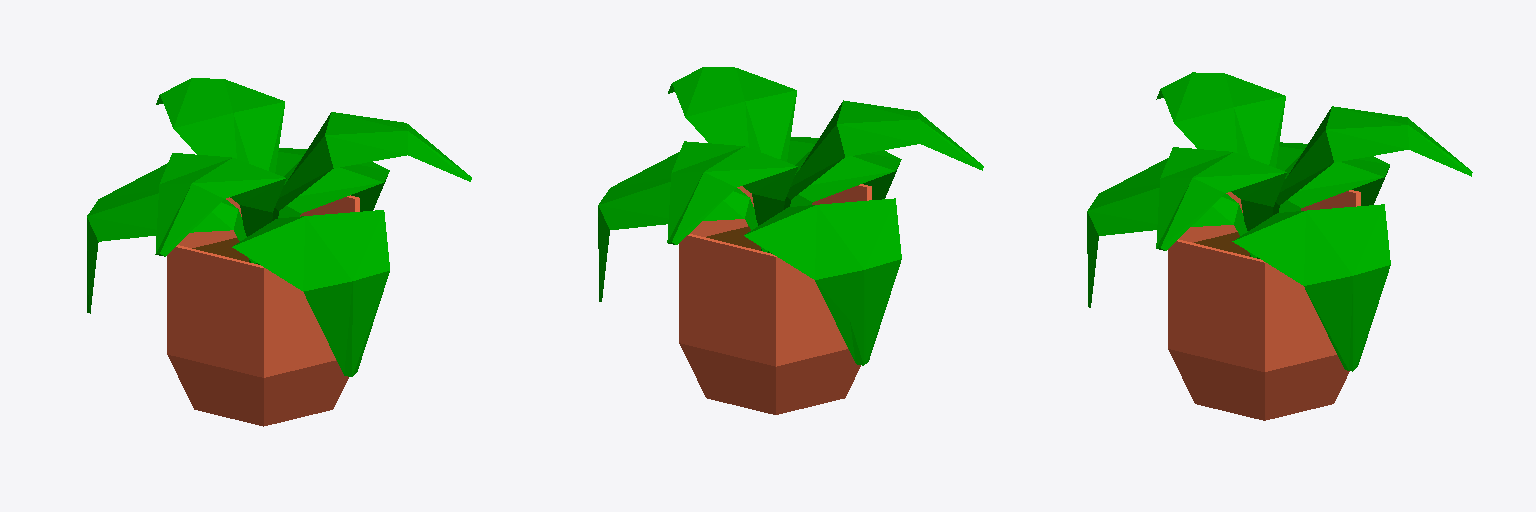
The model's file is PlantLarge.obj.
The picture shows the model from 3 angles: view 1: azimuth 30°, elevation 25°; view 2: azimuth 150°, elevation 25°; view 3: azimuth 270°, elevation 25°; orthographic projection.
Visible parts, largest first — view 1: object_3, object_5, object_8, object_1, object_2, object_7, object_6, object_4; view 2: object_3, object_7, object_2, object_8, object_1, object_6, object_5, object_4; view 3: object_3, object_6, object_1, object_2, object_8, object_5, object_7, object_4.
Part boxes in pixels (x1,y1,x2,y2): object_3: (167,195,359,426); object_5: (232,210,389,376); object_8: (156,78,284,172); object_1: (155,153,286,264); object_2: (272,112,471,220); object_7: (87,163,255,313); object_6: (275,148,389,217); object_4: (192,238,249,262); object_3: (679,184,871,414); object_7: (744,198,901,365); object_2: (668,67,796,161); object_8: (667,141,797,252); object_1: (784,100,983,209); object_6: (598,152,767,301); object_5: (787,137,901,206); object_4: (706,226,760,250); object_3: (1168,190,1360,420); object_6: (1232,204,1390,371); object_1: (1156,72,1285,167); object_2: (1156,147,1286,258); object_8: (1273,106,1472,214); object_5: (1087,158,1256,307); object_7: (1276,142,1389,212); object_4: (1194,232,1249,256).
Size of the model in its own units: 75.23 by 59.7 by 79.64.